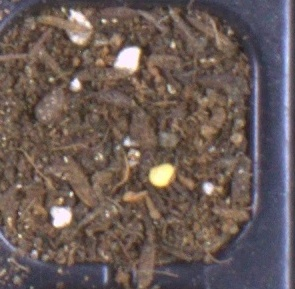chilli seed: (148, 163, 175, 187)
